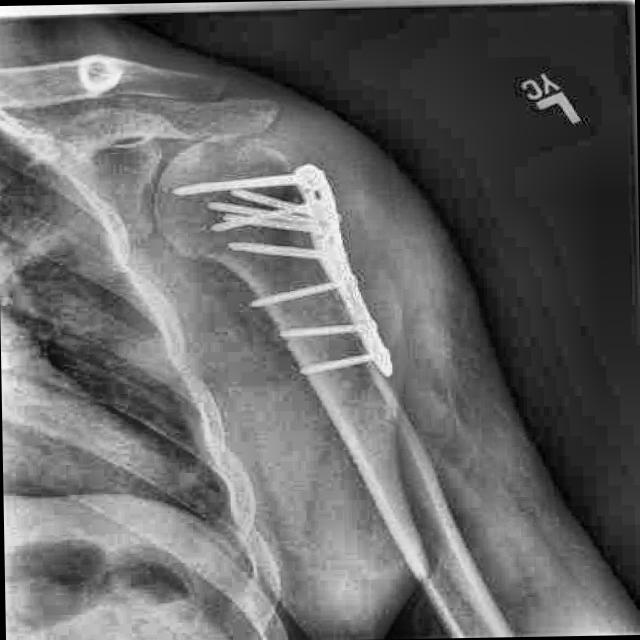shoulder fracture: (160, 217, 262, 282)
